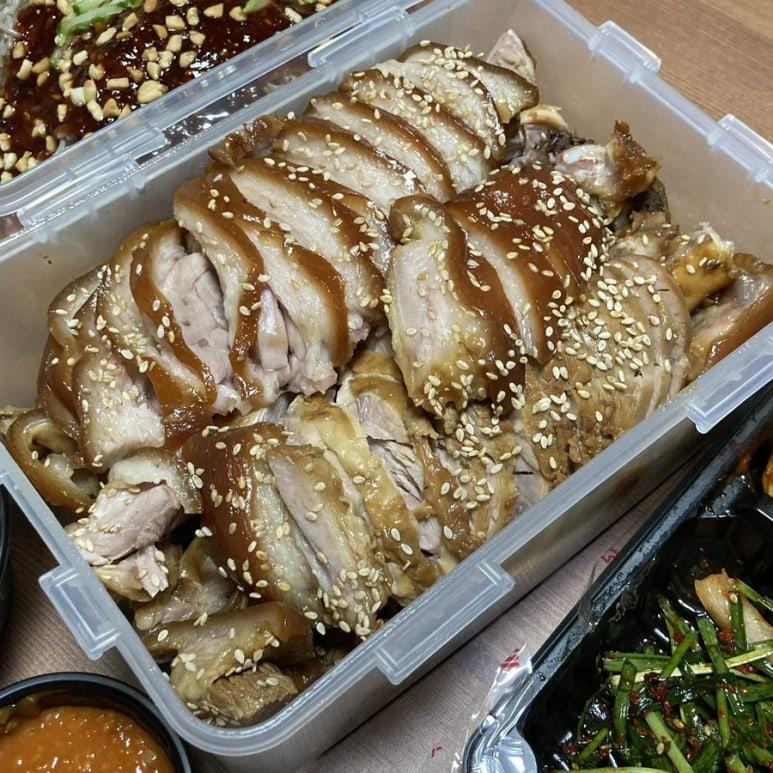Lunch Box: (0, 0, 772, 769), (463, 397, 772, 772)
cup: (0, 672, 194, 772)
